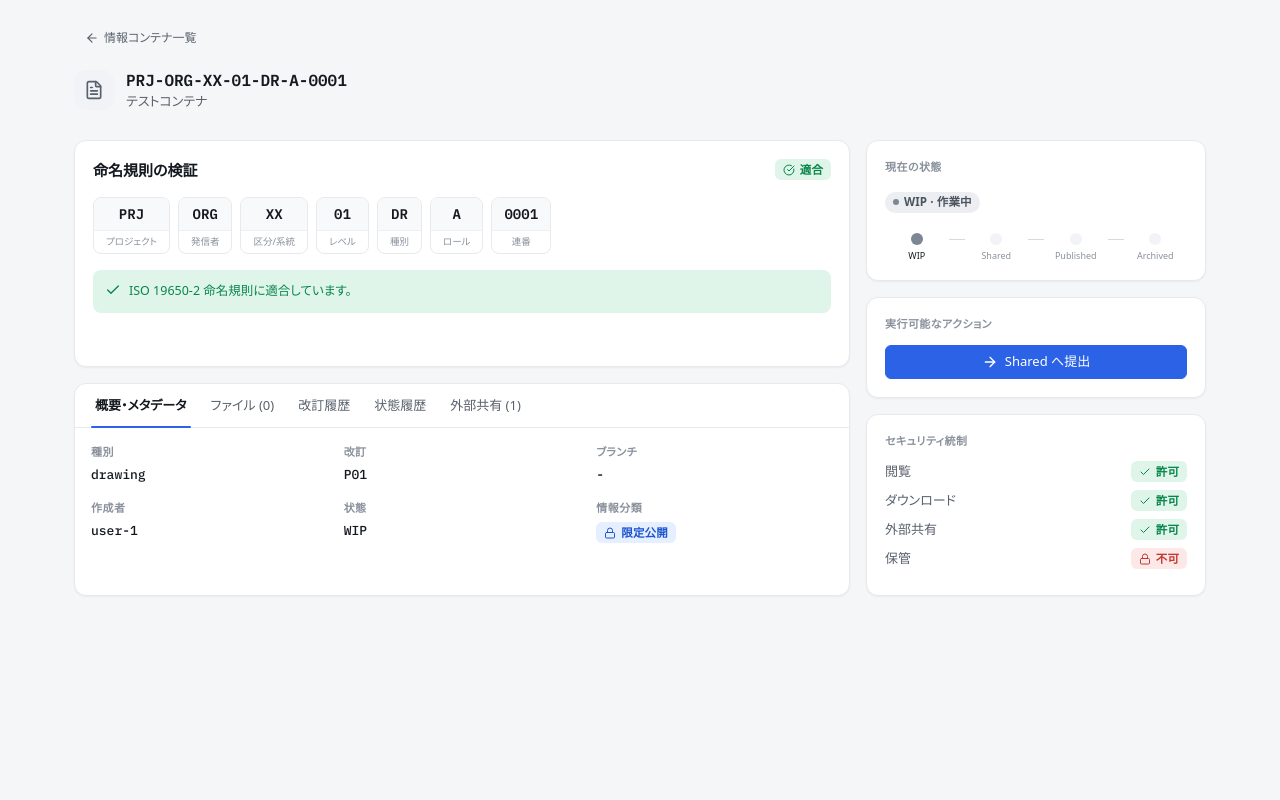
ContainerDetailPage — 外部共有申請 › 外部共有タブをクリックすると申請一覧と申請フォームが表示される
Step 1. Click the button "外部共有 (1)" → (486,405), box left=438, top=384, right=533, bottom=427
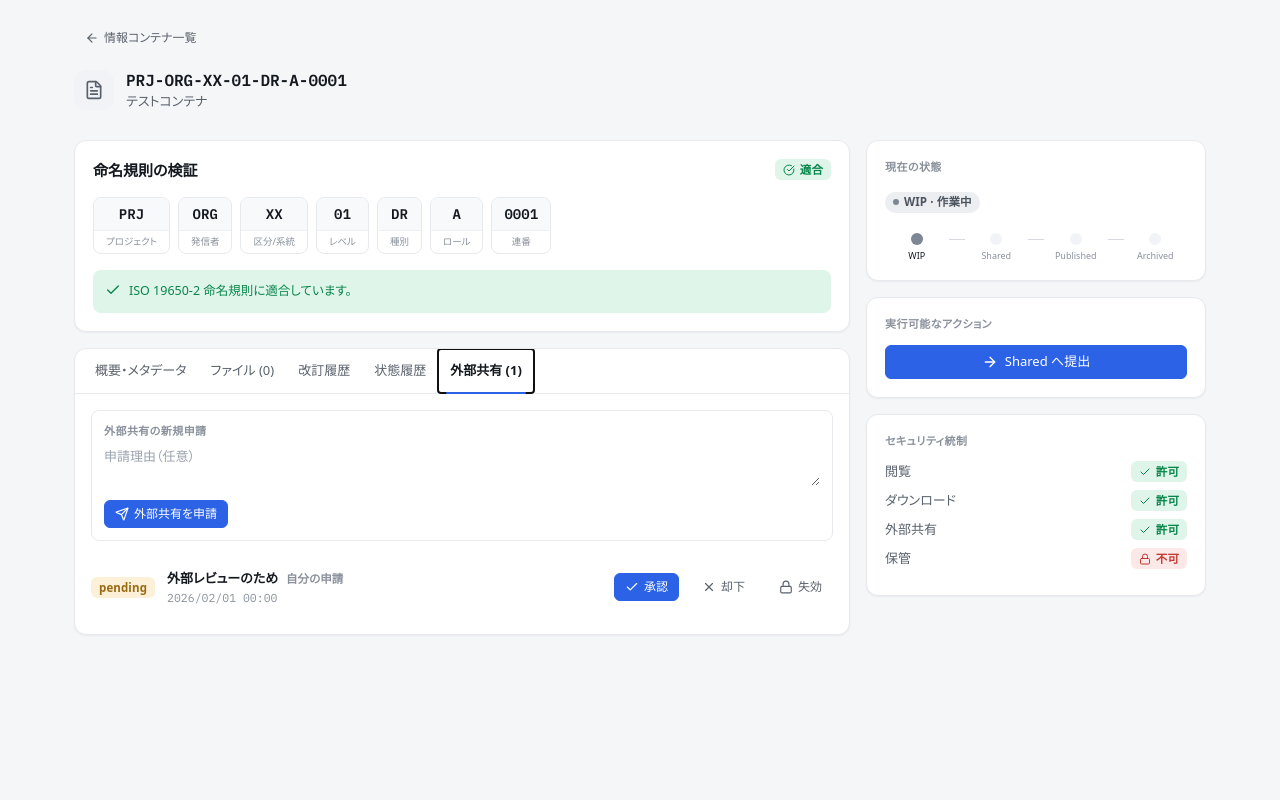
Now the button "外部共有を申請" is shown, box left=104, top=500, right=228, bottom=528
Now the text "外部レビューのため" is shown, box left=167, top=569, right=278, bottom=587
Now the text "pending" is shown, box left=91, top=577, right=155, bottom=598
